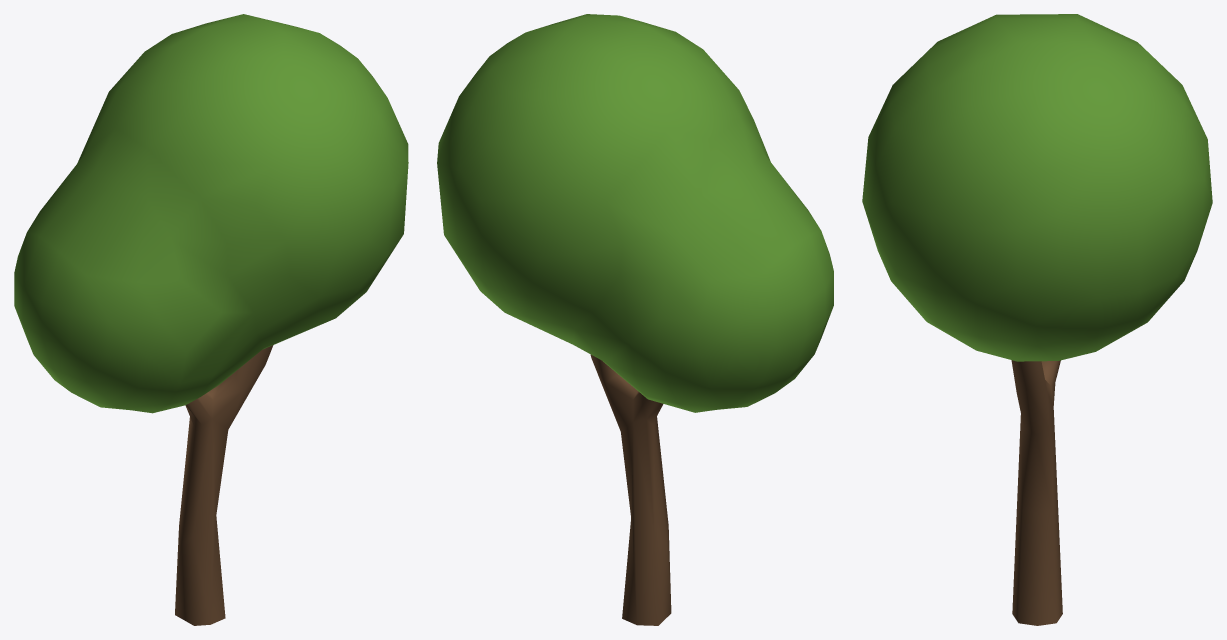
Rendered from broadleaf-0.glb.
3 views of the same model, side by side, from view 1: azimuth 30°, elevation 25°; view 2: azimuth 150°, elevation 25°; view 3: azimuth 270°, elevation 25° (orthographic). The views are drawn at different scales.
Parts seen in each view (by area): view 1: broadleaf-0; view 2: broadleaf-0; view 3: broadleaf-0.
Part boxes in pixels (x1,y1,x2,y2): broadleaf-0: (14,14,408,625); broadleaf-0: (437,14,833,625); broadleaf-0: (862,14,1212,625).
Bounding box in the file's own units: 1.76 × 2.7 × 1.4.
